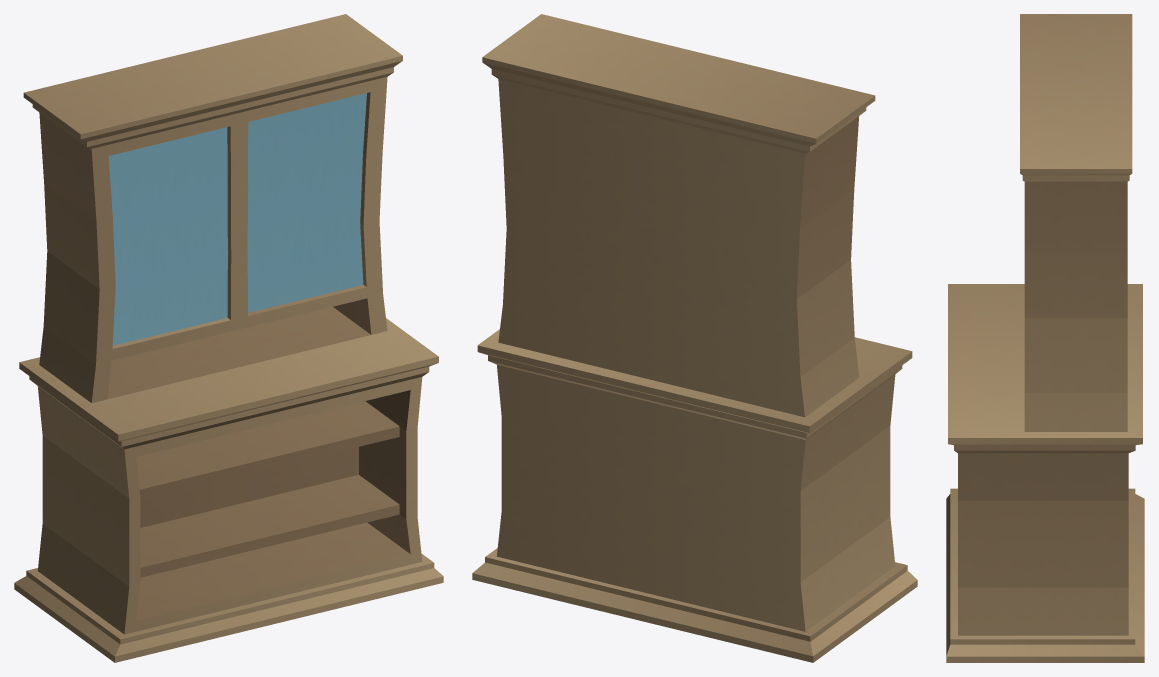
Rendered from cupboard_1a.glb.
3 renders of one model, left to right at view 1: azimuth 30°, elevation 25°; view 2: azimuth 150°, elevation 25°; view 3: azimuth 270°, elevation 25°, orthographic. The views are drawn at different scales.
Visible parts, largest first — view 1: cubboard_1a; view 2: cubboard_1a; view 3: cubboard_1a.
Part boxes in pixels (left/top/right/bottom): cubboard_1a: left=14, top=14, right=443, bottom=662; cubboard_1a: left=472, top=14, right=917, bottom=662; cubboard_1a: left=946, top=14, right=1144, bottom=662.
Bounding box in the file's own units: 1.1 × 1.6 × 0.5845.
1 material, 1 textured.
